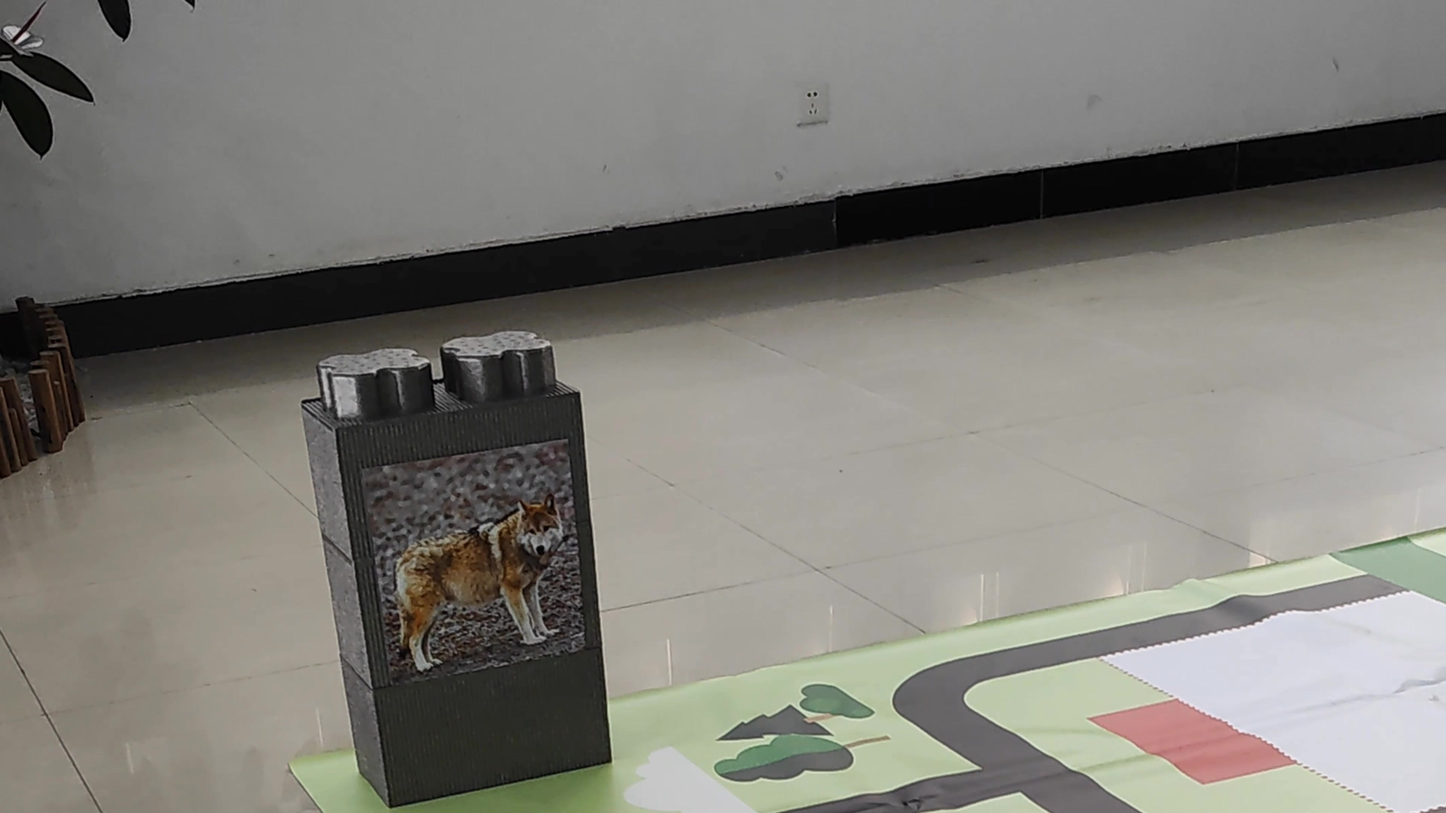wolf: (392, 459, 585, 652)
